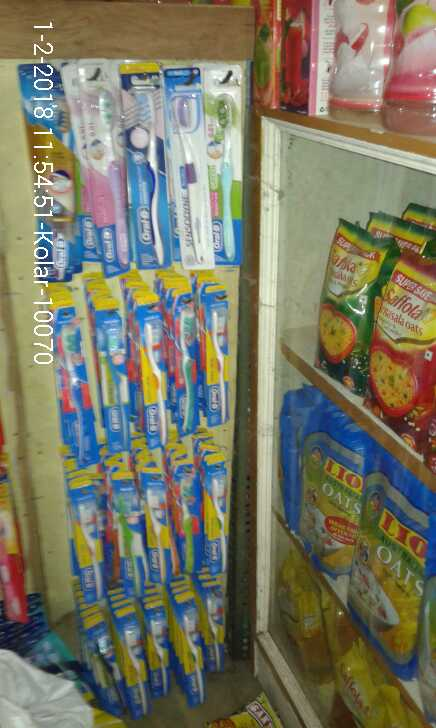oralb: (60, 78, 125, 278), (165, 68, 209, 264), (129, 86, 167, 271), (135, 307, 173, 452), (59, 315, 96, 461), (211, 91, 237, 271), (69, 490, 110, 603), (193, 295, 226, 427), (107, 489, 151, 578), (168, 298, 195, 426), (142, 483, 174, 578), (165, 468, 194, 571), (198, 470, 226, 574), (97, 305, 117, 438)
